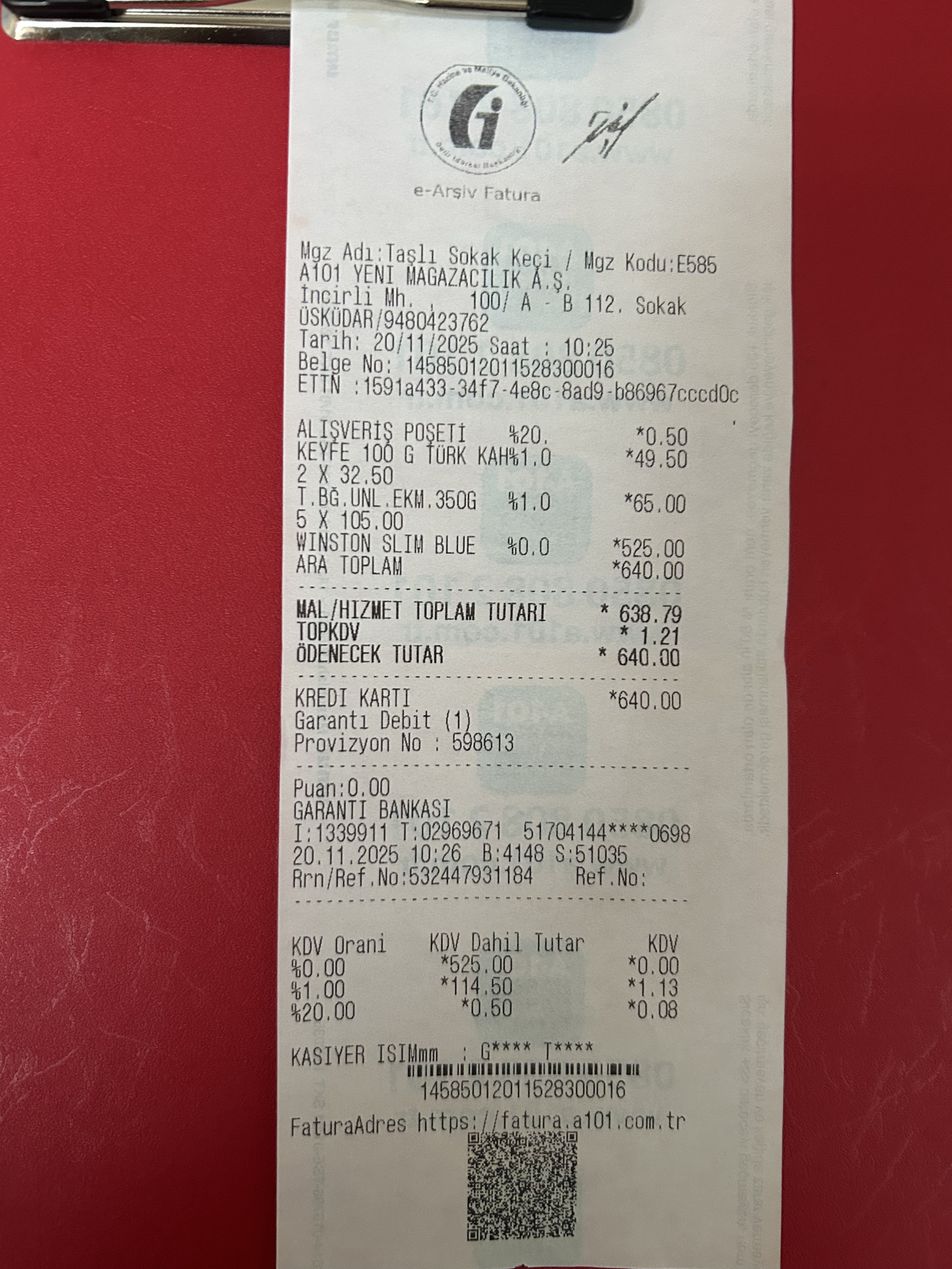date: (369, 331, 484, 355)
price: (608, 643, 687, 677)
workplace: (296, 233, 726, 314)
